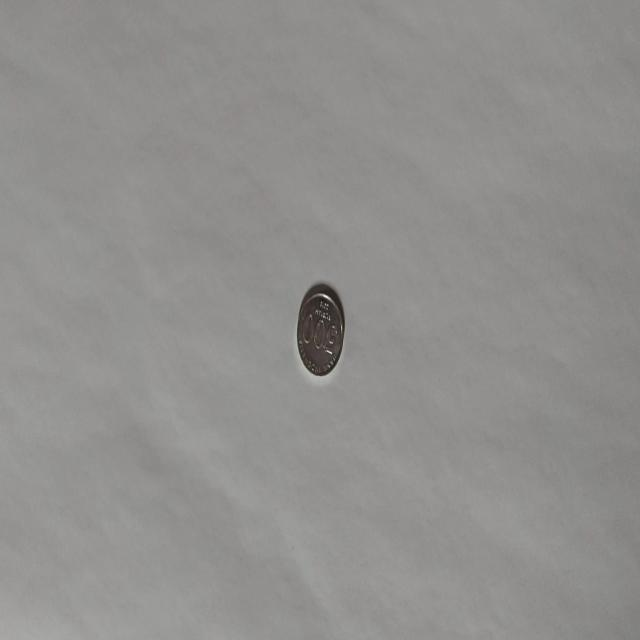lima ratus rupiah: (296, 283, 344, 377)
